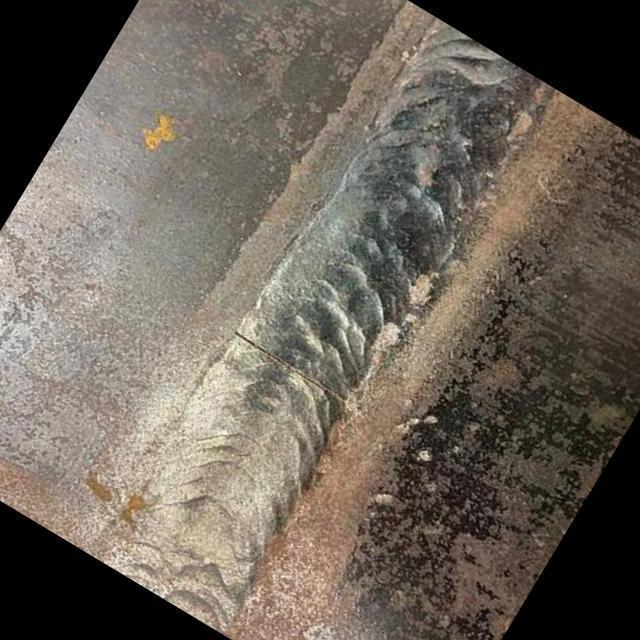defect: (224, 324, 345, 403)
